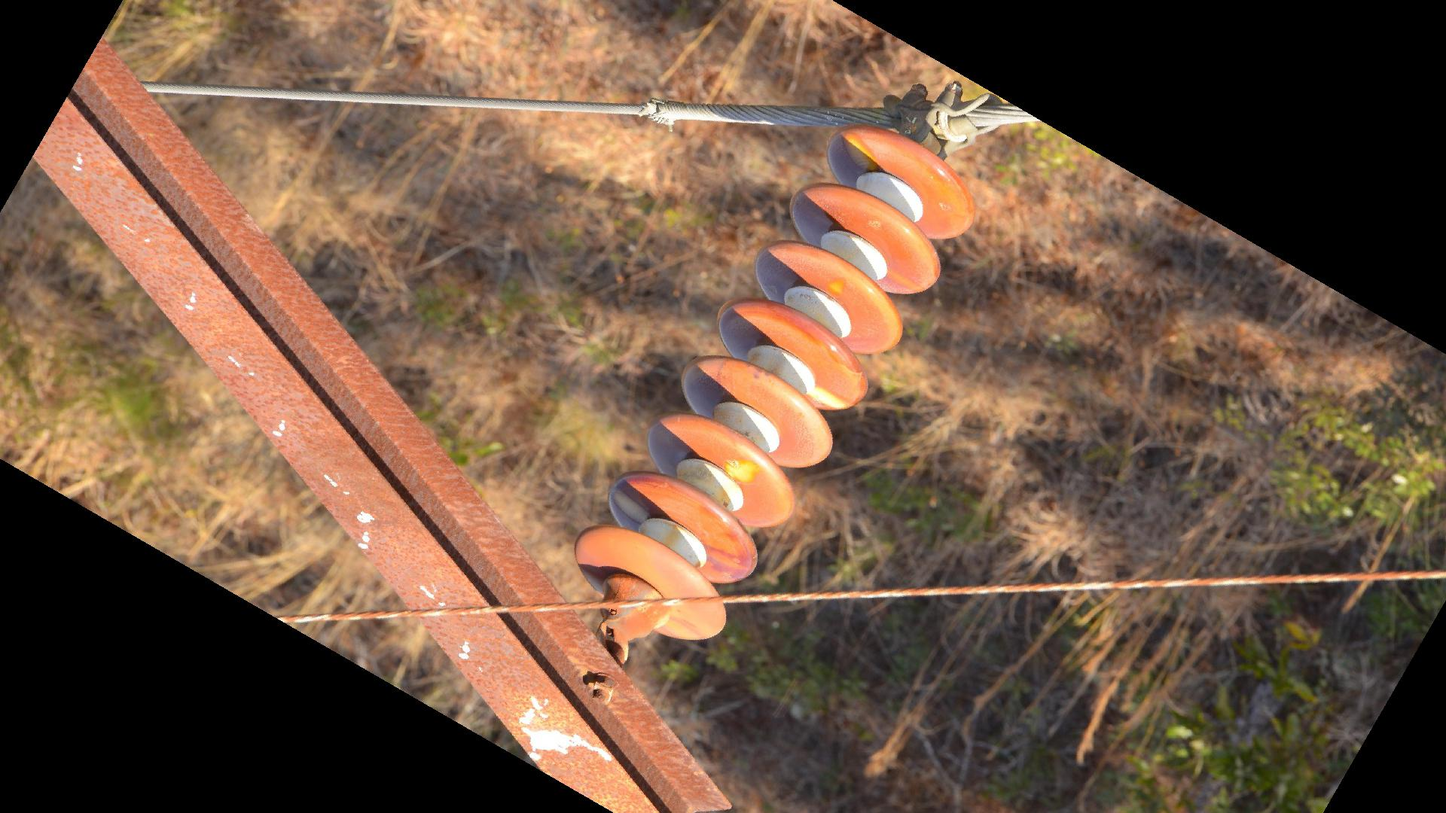insulator: (570, 117, 978, 647)
insulator_flashover: (840, 130, 881, 174), (723, 456, 762, 487), (810, 384, 850, 413)
